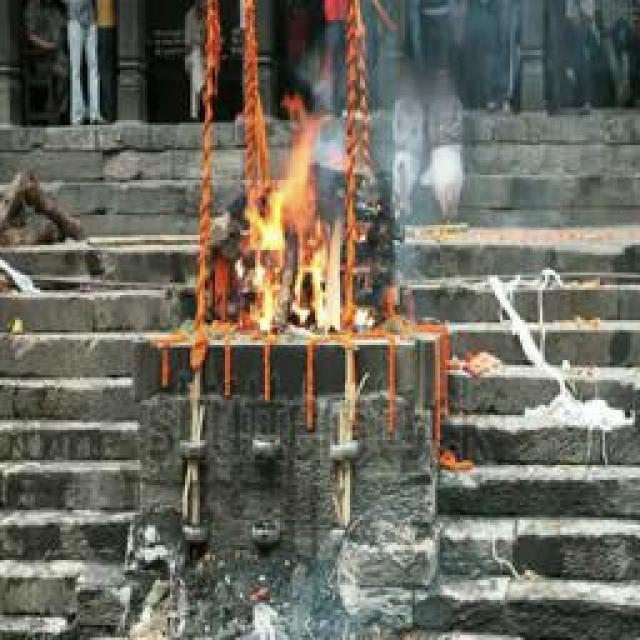Fire: (243, 116, 345, 333)
